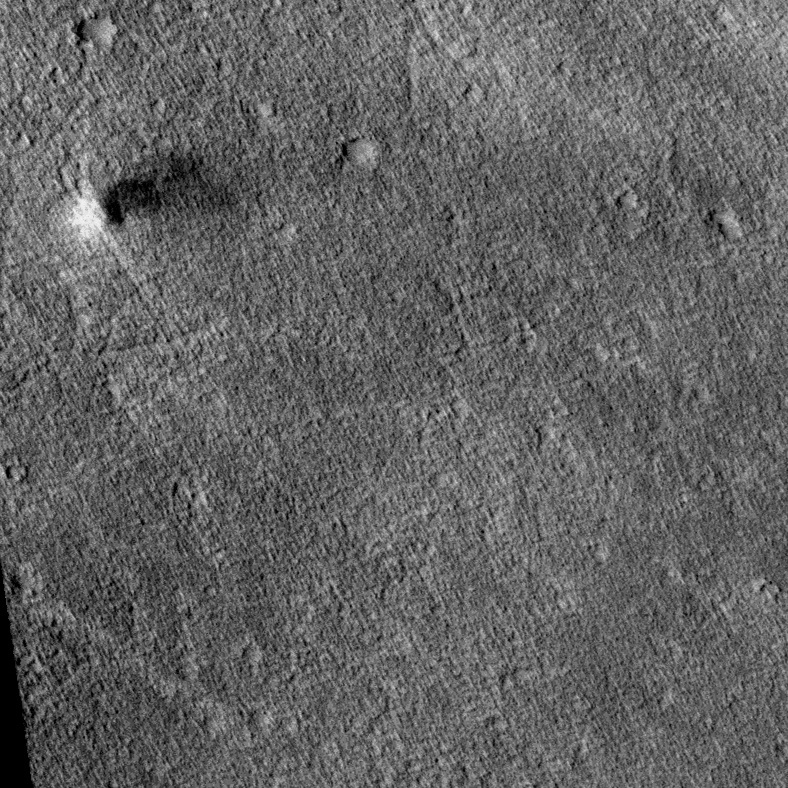dust_devil: (64, 152, 244, 242)
